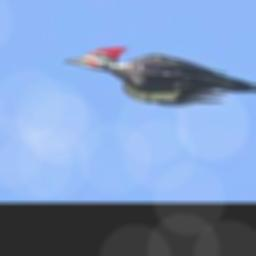Woodpecker: (63, 46, 256, 105)
